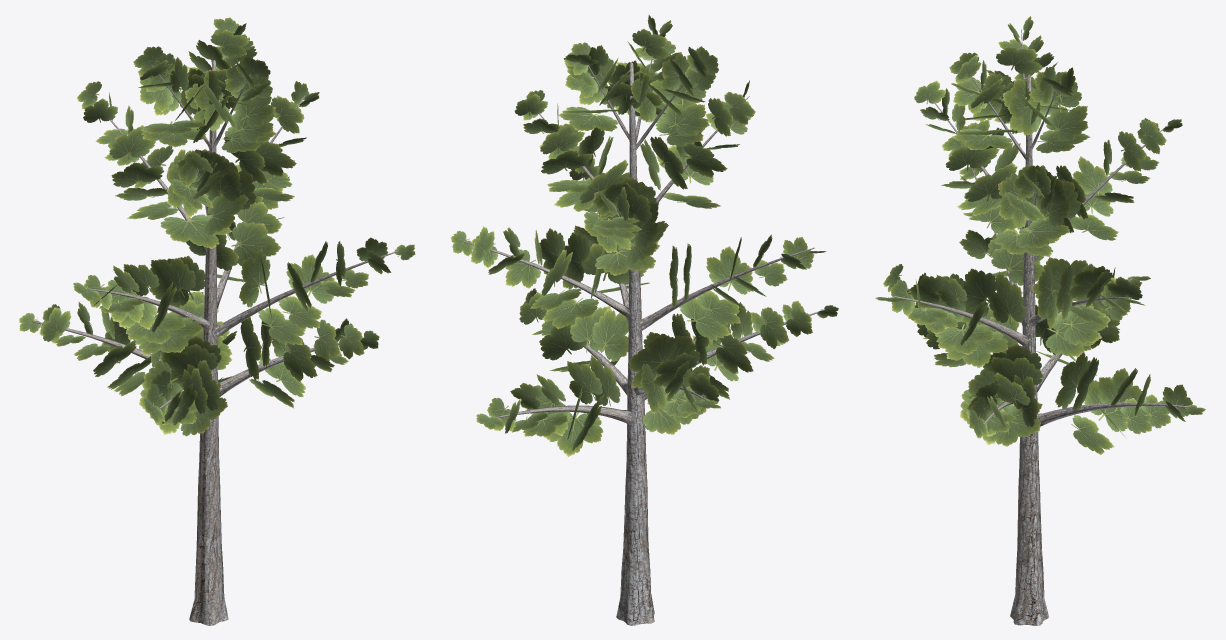
File: metree.fbx
The picture shows the model from 3 angles, left to right: view 1: azimuth 30°, elevation 25°; view 2: azimuth 150°, elevation 25°; view 3: azimuth 270°, elevation 25°; orthographic projection.
Parts seen in each view (by area): view 1: Tree_1, Tree_0; view 2: Tree_1, Tree_0; view 3: Tree_1, Tree_0.
Part boxes in pixels (x1=…): Tree_1: x1=19, y1=17, x2=415, y2=436; Tree_0: x1=32, y1=55, x2=398, y2=625; Tree_1: x1=450, y1=15, x2=838, y2=456; Tree_0: x1=464, y1=31, x2=818, y2=625; Tree_1: x1=875, y1=16, x2=1205, y2=454; Tree_0: x1=893, y1=29, x2=1188, y2=625.
Size of the model in its own units: 58.57 by 106 by 56.78.
2 materials, 2 textured.
